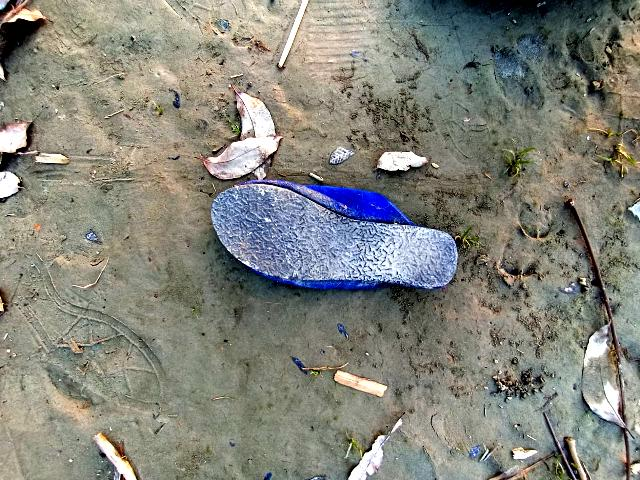sandal: (172, 155, 481, 339)
